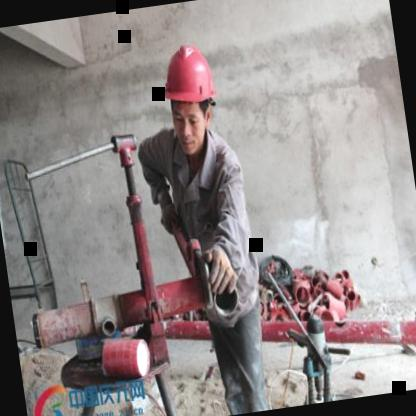helmet: (152, 32, 228, 160)
